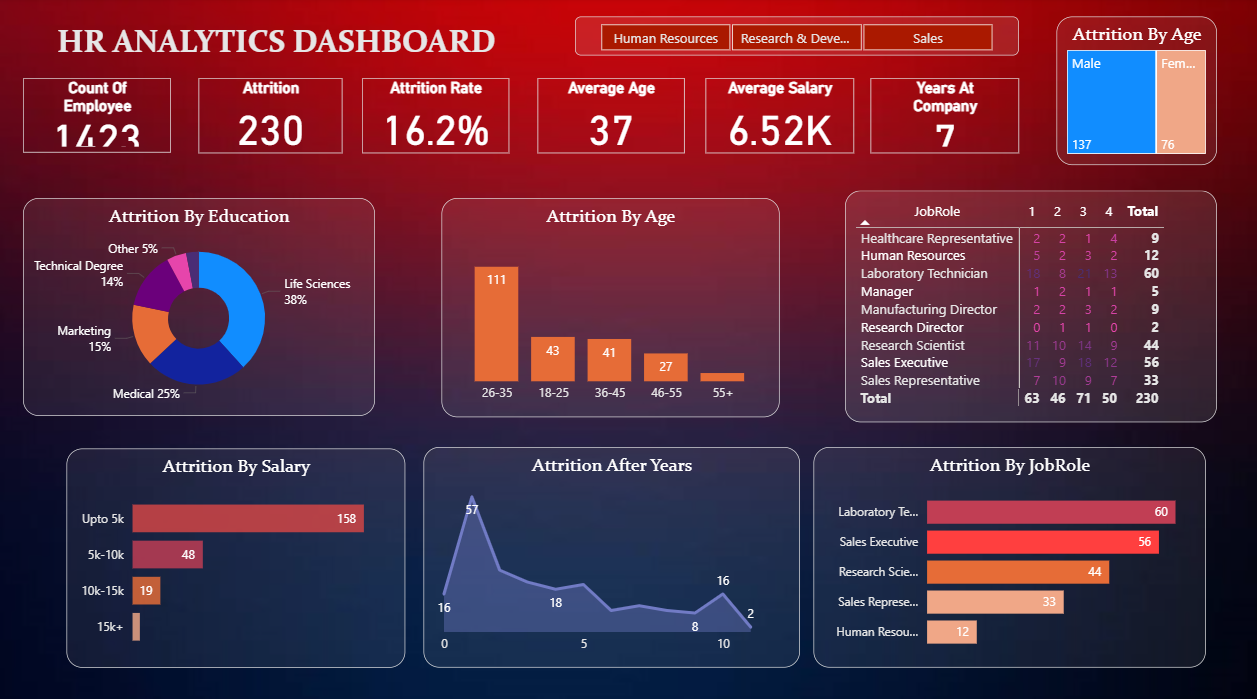

The dashboard page shown, as its layout file describes it:
{"tool":"powerbi","page":{"name":"Page 1","canvas":[1280,720],"ordinal":0},"visuals":[{"type":"card","title":"Count Of Employee","fields":{"Values":["CountNonNull(HR_Analytics.EmpID)"]},"box":[27.5,81.3,149.3,75.6],"z":0},{"type":"card","title":"Years At Company","fields":{"Values":["Avg(HR_Analytics.YearsAtCompany)"]},"box":[882.8,81.8,149.9,75.7],"z":1000},{"type":"card","title":"Average Salary","fields":{"Values":["Avg(HR_Analytics.MonthlyIncome)"]},"box":[716.2,81.8,149.9,75.7],"z":2000},{"type":"card","title":"Average Age","fields":{"Values":["Avg(HR_Analytics.Age)"]},"box":[546.6,81.8,148.4,75.7],"z":3000},{"type":"card","title":"Attrition Rate","fields":{"Values":["HR_Analytics.AttritionRate"]},"box":[369.5,81.8,148.4,75.7],"z":4000},{"type":"card","title":"Attrition","fields":{"Values":["Sum(HR_Analytics.AttritionCount)"]},"box":[204.4,81.8,145.4,75.7],"z":5000},{"type":"donutChart","title":"Attrition By Education","fields":{"Category":["HR_Analytics.EducationField"],"Y":["Sum(HR_Analytics.AttritionCount)"]},"box":[26.8,203,355.3,220],"z":6000},{"type":"columnChart","title":"Attrition By Age","fields":{"Category":["HR_Analytics.AgeGroup"],"Y":["Sum(HR_Analytics.AttritionCount)"]},"box":[449.8,203,341.2,221.4],"z":7000},{"type":"pivotTable","fields":{"Rows":["HR_Analytics.JobRole"],"Columns":["HR_Analytics.JobSatisfaction"],"Values":["Sum(HR_Analytics.AttritionCount)"]},"box":[857.2,196,375,234.1],"z":8000},{"type":"barChart","title":"Attrition By Salary","fields":{"Category":["HR_Analytics.SalarySlab"],"Y":["Sum(HR_Analytics.AttritionCount)"]},"box":[71.2,455.8,342.2,221.1],"z":9000},{"type":"barChart","title":"Attrition By JobRole","fields":{"Category":["HR_Analytics.JobRole"],"Y":["Sum(HR_Analytics.AttritionCount)"]},"box":[824.8,454,396.2,222.8],"z":10000},{"type":"areaChart","title":"Attrition After Years","fields":{"Y":["Sum(HR_Analytics.AttritionCount)"],"Category":["HR_Analytics.YearsAtCompany"]},"box":[430.9,453.5,379.8,223],"z":11000},{"type":"treemap","title":"Attrition By Age","fields":{"Values":["Sum(HR_Analytics.AttritionCount)"],"Group":["HR_Analytics.Gender"]},"box":[1070.5,19.7,162,149.9],"z":12000},{"type":"slicer","fields":{"Values":["HR_Analytics.Department"]},"box":[584.5,19.7,448.2,39.4],"z":13000},{"type":"textbox","box":[10.6,19.7,552.7,51.5],"z":14000}]}

Visuals, with their boxes in screenshot pixels (x1, y1, x2, y2), scaled from the page's 1280x720 canvas onto the 1257x699 screenshot:
"Count Of Employee" card: [x1=27, y1=79, x2=174, y2=152]
"Years At Company" card: [x1=867, y1=79, x2=1014, y2=153]
"Average Salary" card: [x1=703, y1=79, x2=851, y2=153]
"Average Age" card: [x1=537, y1=79, x2=683, y2=153]
"Attrition Rate" card: [x1=363, y1=79, x2=509, y2=153]
"Attrition" card: [x1=201, y1=79, x2=344, y2=153]
"Attrition By Education" donutChart: [x1=26, y1=197, x2=375, y2=411]
"Attrition By Age" columnChart: [x1=442, y1=197, x2=777, y2=412]
pivotTable - HR_Analytics.JobRole x HR_Analytics.JobSatisfaction: [x1=842, y1=190, x2=1210, y2=418]
"Attrition By Salary" barChart: [x1=70, y1=443, x2=406, y2=657]
"Attrition By JobRole" barChart: [x1=810, y1=441, x2=1199, y2=657]
"Attrition After Years" areaChart: [x1=423, y1=440, x2=796, y2=657]
"Attrition By Age" treemap: [x1=1051, y1=19, x2=1210, y2=165]
slicer - HR_Analytics.Department: [x1=574, y1=19, x2=1014, y2=57]
textbox: [x1=10, y1=19, x2=553, y2=69]
